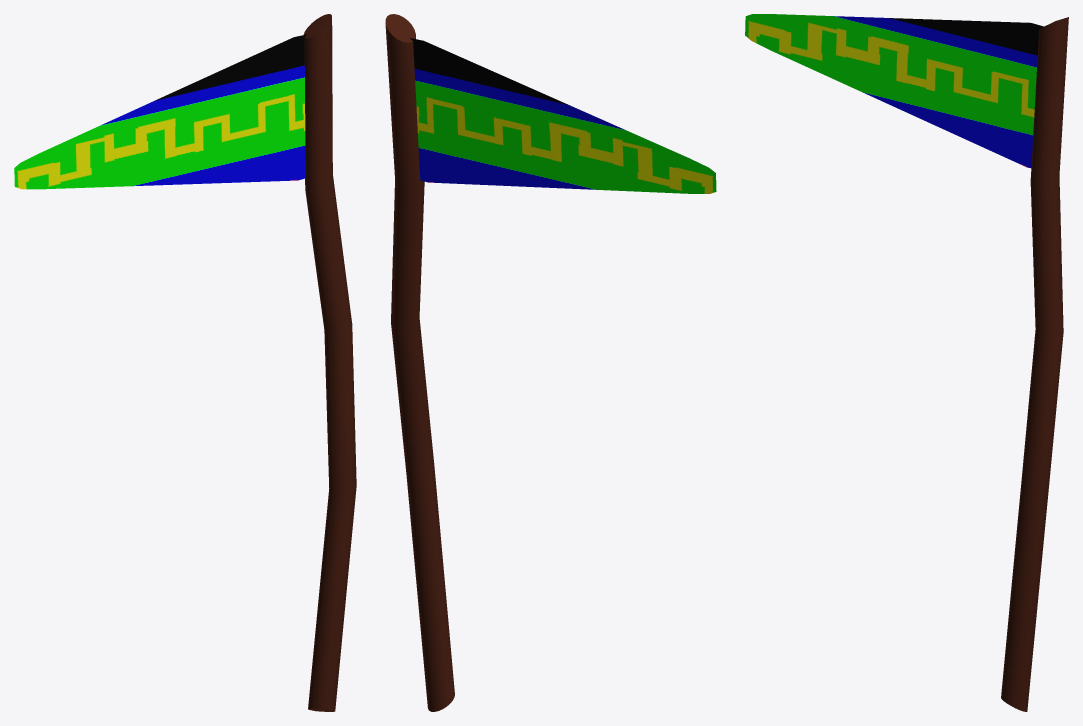
File: flag_01.fbx
3 views of the same model, side by side, from view 1: azimuth 30°, elevation 25°; view 2: azimuth 150°, elevation 25°; view 3: azimuth 330°, elevation 25° (orthographic). The views are drawn at different scales.
Parts seen in each view (by area): view 1: flag_01; view 2: flag_01; view 3: flag_01.
Boxes of the visible parts, x1,y1,x2,y2 form: flag_01: [14, 14, 356, 711]; flag_01: [385, 14, 716, 711]; flag_01: [745, 14, 1068, 711].
Bounding box in the file's own units: 222 × 445 × 42.18.
Materials: 2 (1 with a texture image).
